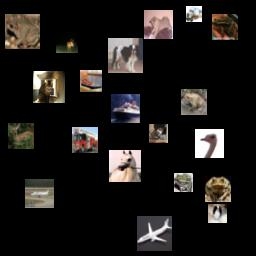airplane: (137, 216, 172, 251), (25, 179, 54, 208)
bird: (195, 129, 224, 158)
cat: (33, 71, 65, 103), (144, 10, 173, 39), (149, 124, 168, 143)
deer: (8, 123, 34, 149), (56, 31, 78, 53)
dog: (108, 38, 143, 73), (208, 204, 227, 223)
frog: (5, 14, 40, 49), (181, 89, 207, 115), (212, 14, 238, 40), (205, 176, 231, 202), (174, 173, 193, 192)
ship: (111, 94, 140, 123), (80, 70, 102, 92)
truck: (72, 127, 98, 153), (186, 6, 202, 22)
